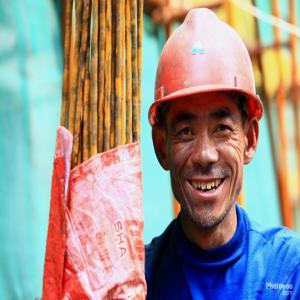red: (151, 8, 258, 230)
